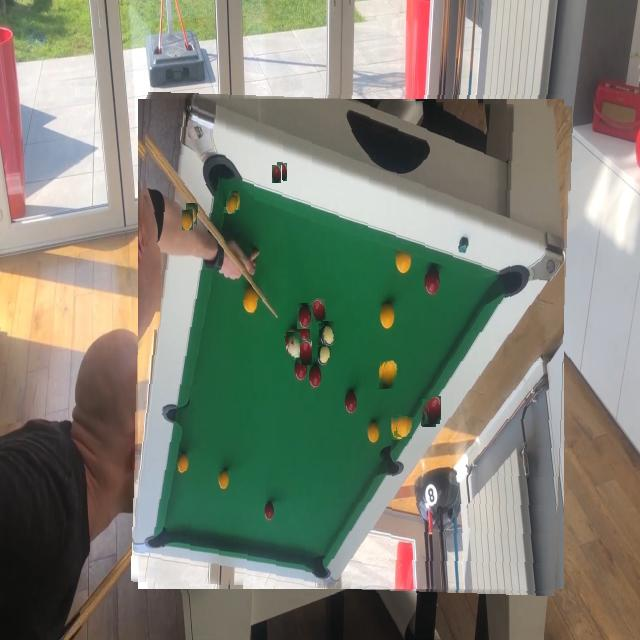Ball: (381, 360, 398, 388), (426, 396, 441, 424), (395, 416, 412, 439), (287, 334, 302, 359), (246, 372, 260, 398), (320, 322, 335, 346), (311, 299, 327, 321), (298, 305, 312, 329), (300, 340, 312, 365), (372, 246, 386, 267), (350, 275, 362, 298), (183, 209, 196, 230), (225, 195, 238, 214), (274, 165, 284, 183)
Billiard table: (136, 95, 570, 593)
